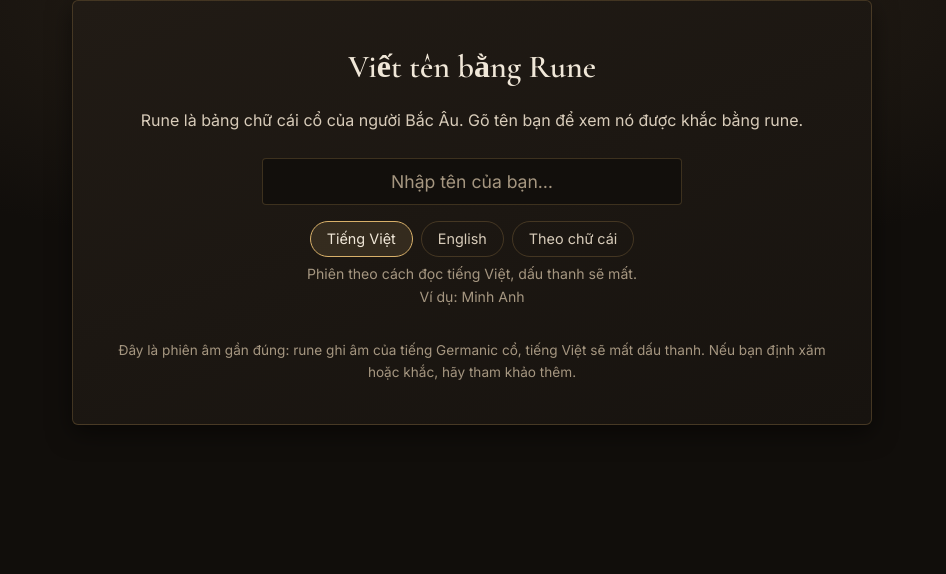
Test: NameWriterTab › đổi sang "Theo chữ cái" thì kết quả đổi theo
In the field named "Tên cần viết bằng rune": (472, 181) [262,158,682,205], type "Minh"
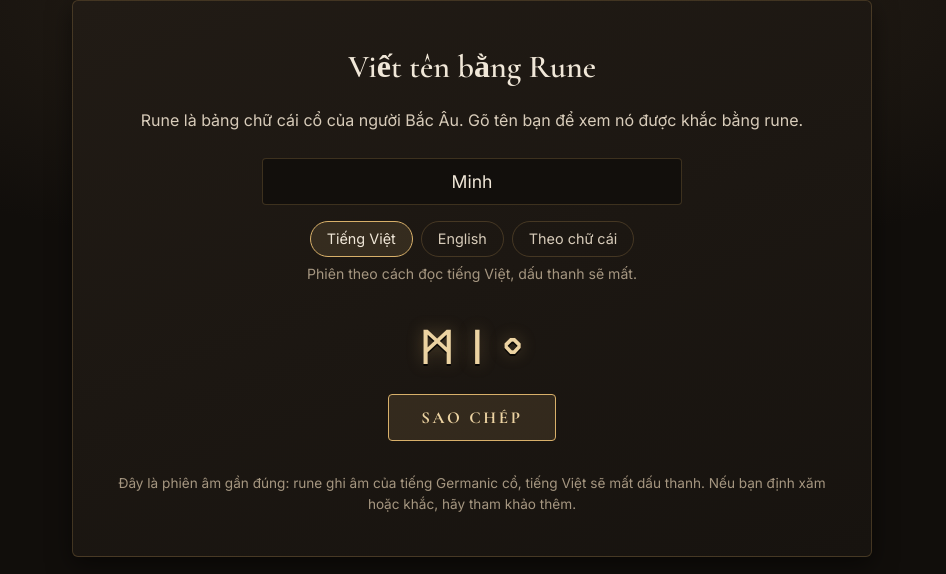
Click the button "Theo chữ cái": (573, 239) [512,221,634,257]
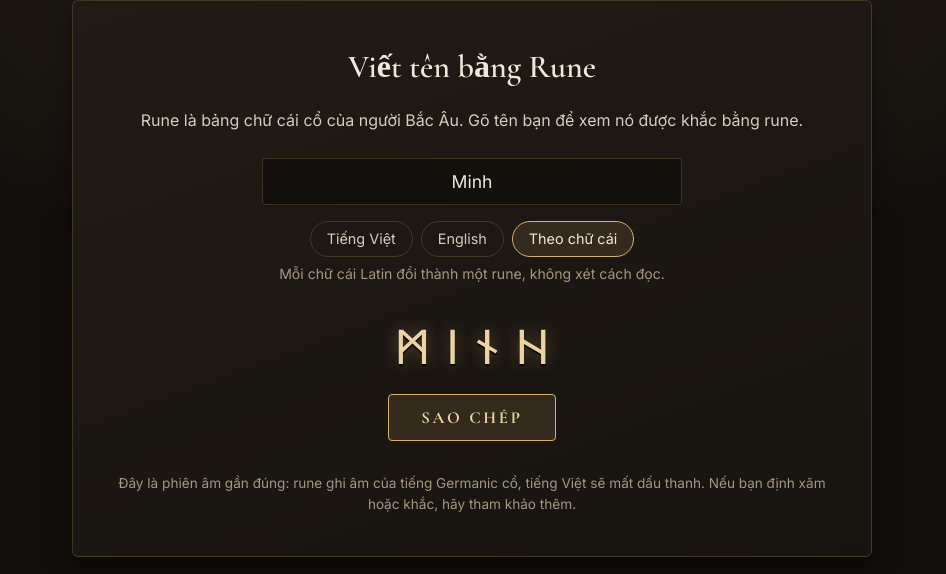
Expected: the buttons ", từ \"" read "ᛗ", "ᛁ", "ᚾ", "ᚺ", in this order, [387,318,437,374]; [439,318,466,374]; [468,318,506,374]; [508,318,557,374]
